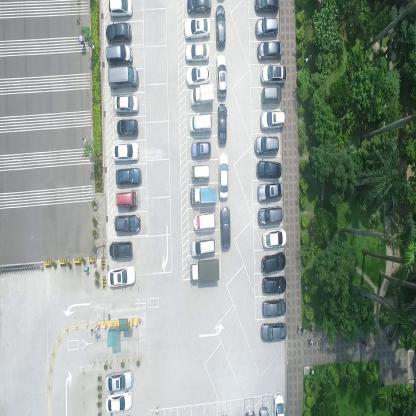car: (190, 256, 220, 284), (107, 263, 136, 289), (107, 66, 138, 90), (105, 368, 134, 392), (105, 389, 134, 413), (256, 178, 284, 201), (111, 140, 140, 162), (258, 202, 283, 227), (260, 106, 286, 130), (183, 16, 210, 39), (262, 250, 286, 275), (105, 44, 132, 66), (190, 182, 217, 204), (260, 320, 287, 342), (113, 213, 141, 234), (190, 82, 214, 106), (262, 226, 287, 249), (106, 22, 132, 44), (190, 234, 216, 256), (115, 165, 142, 186), (218, 149, 229, 199), (185, 64, 210, 86), (260, 62, 286, 83), (256, 158, 282, 179), (214, 3, 226, 48), (215, 53, 227, 97), (255, 14, 279, 36), (219, 204, 231, 248), (114, 93, 139, 114), (184, 42, 209, 63), (188, 113, 212, 134), (262, 297, 286, 318), (255, 134, 280, 154), (257, 38, 282, 58), (107, 0, 133, 19), (109, 239, 133, 259), (115, 190, 138, 210), (116, 118, 139, 138), (193, 210, 216, 230), (262, 276, 287, 294), (217, 102, 227, 144), (261, 84, 281, 104), (191, 140, 212, 159), (185, 0, 211, 15), (191, 163, 211, 181), (254, 0, 280, 12), (273, 392, 285, 415)
